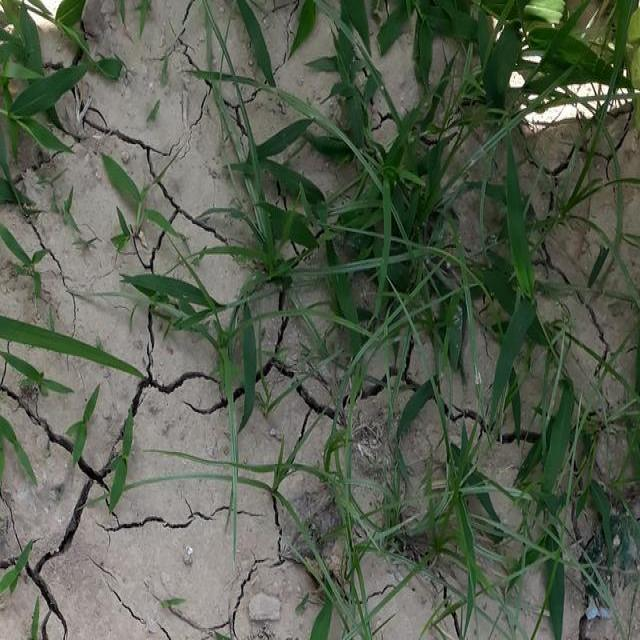weed: (132, 116, 640, 574)
